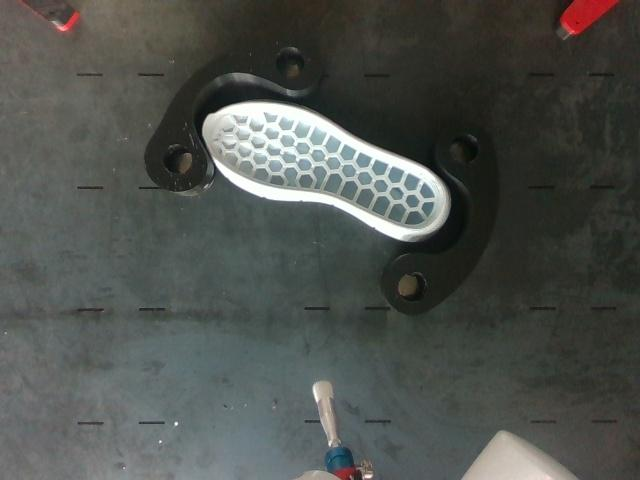shoes: (205, 103, 446, 229)
